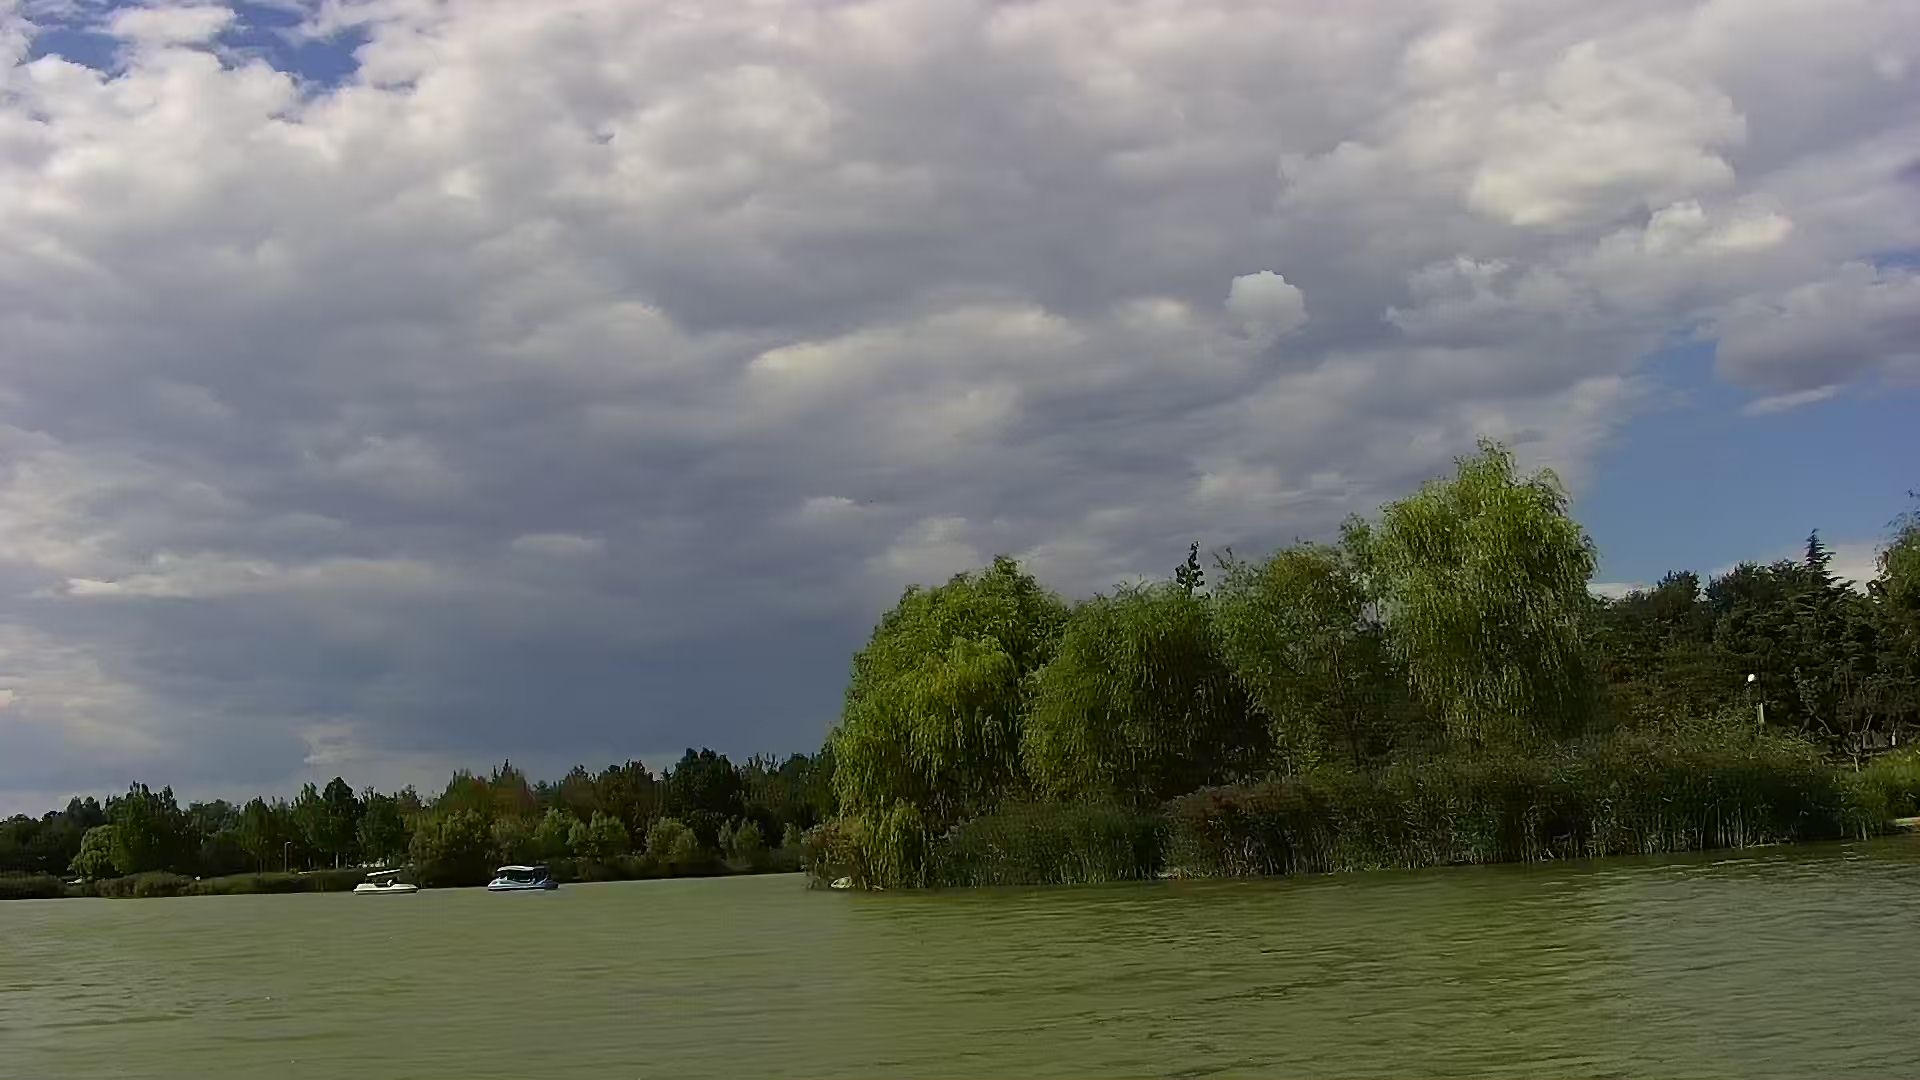boat: (487, 862, 560, 894), (353, 868, 415, 895)
rock: (829, 877, 857, 893)
